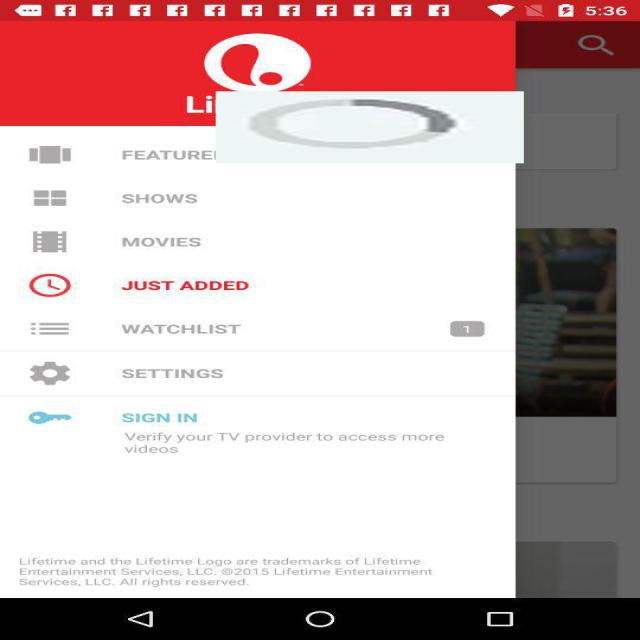misdirection: (216, 92, 524, 164)
